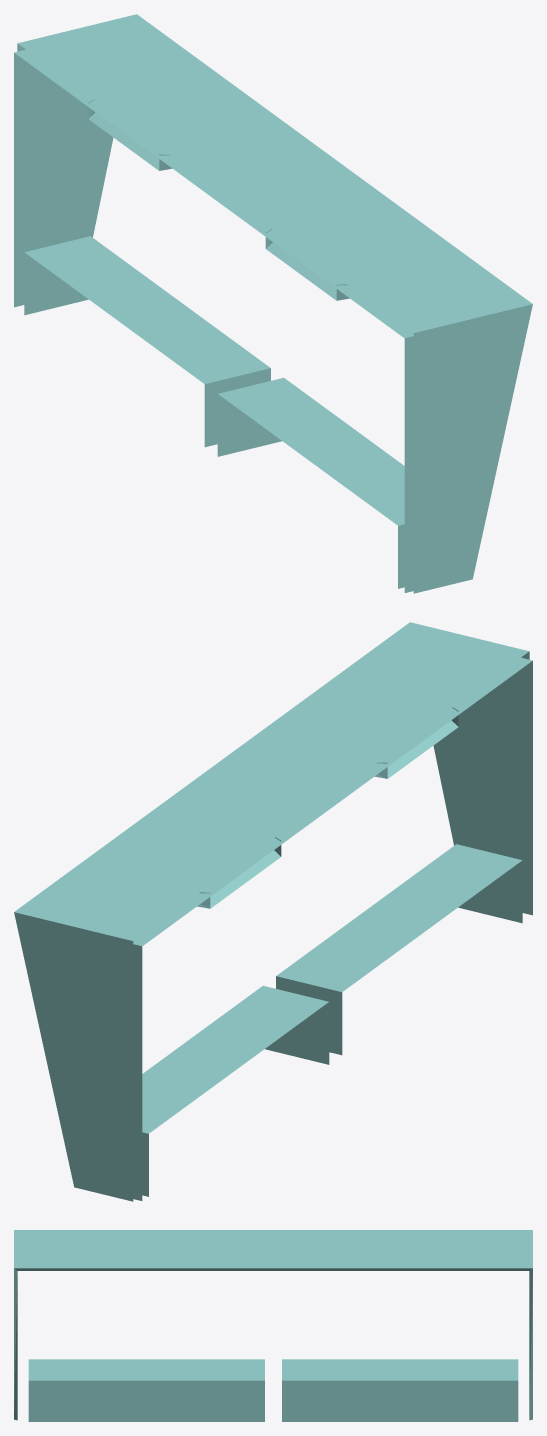
The model's file is TS2_Collider_TanWei_1.FBX.
The picture shows the model from 3 angles, top to bottom: view 1: azimuth 30°, elevation 25°; view 2: azimuth 150°, elevation 25°; view 3: azimuth 270°, elevation 25°; orthographic projection. The views are drawn at different scales.
Visible parts, largest first — view 1: Collider_TanWei_1; view 2: Collider_TanWei_1; view 3: Collider_TanWei_1.
Part boxes in pixels (x1,y1,x2,y2): Collider_TanWei_1: (14, 14, 532, 593); Collider_TanWei_1: (14, 622, 532, 1201); Collider_TanWei_1: (14, 1230, 532, 1421).
Size of the model in its own units: 1.01 by 2.01 by 5.5.
